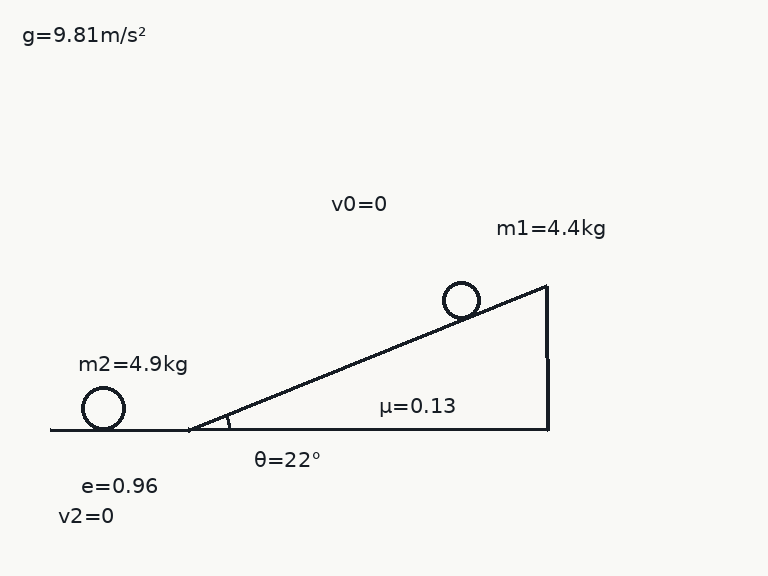ball: (79, 384, 127, 432), (440, 279, 482, 321)
ramp: (187, 283, 549, 432)
